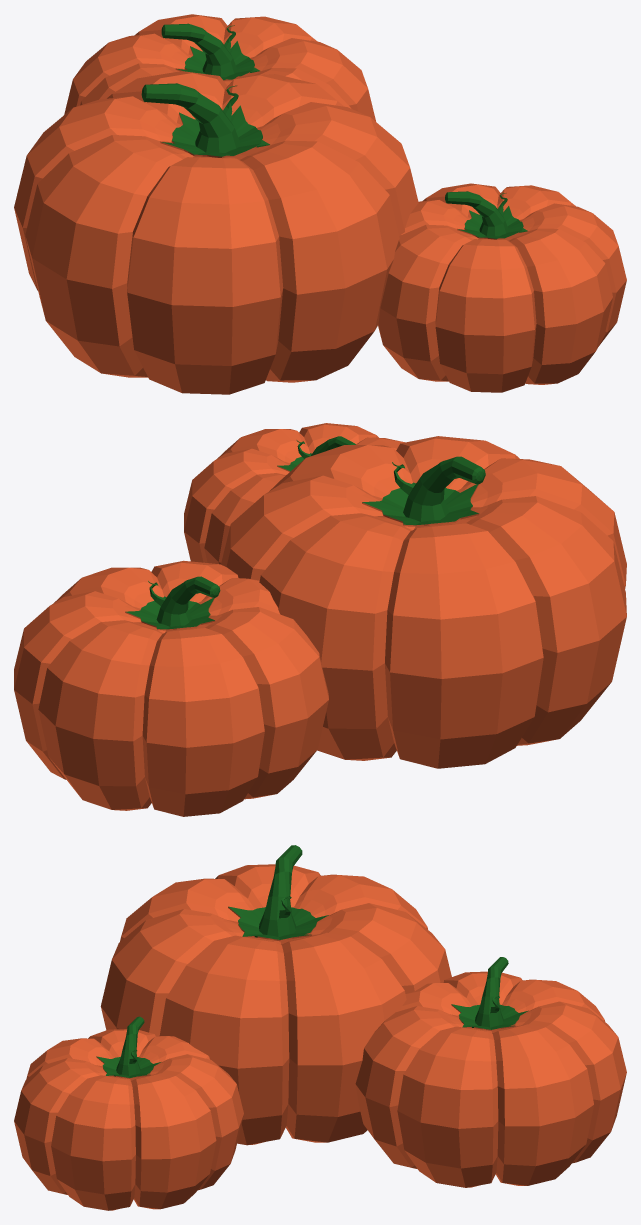
The model's file is pumpkin.glb.
The picture shows the model from 3 angles, top to bottom: view 1: azimuth 30°, elevation 25°; view 2: azimuth 150°, elevation 25°; view 3: azimuth 270°, elevation 25°; orthographic projection. The views are drawn at different scales.
Parts seen in each view (by area): view 1: Pumpkins; view 2: Pumpkins; view 3: Pumpkins.
Boxes of the visible parts, x1,y1,x2,y2 form: Pumpkins: (14, 14, 626, 394); Pumpkins: (14, 423, 626, 816); Pumpkins: (14, 845, 626, 1210).
Size of the model in its own units: 0.6523 by 0.3439 by 0.8286.
